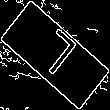L_SW: (29, 26, 81, 84)
